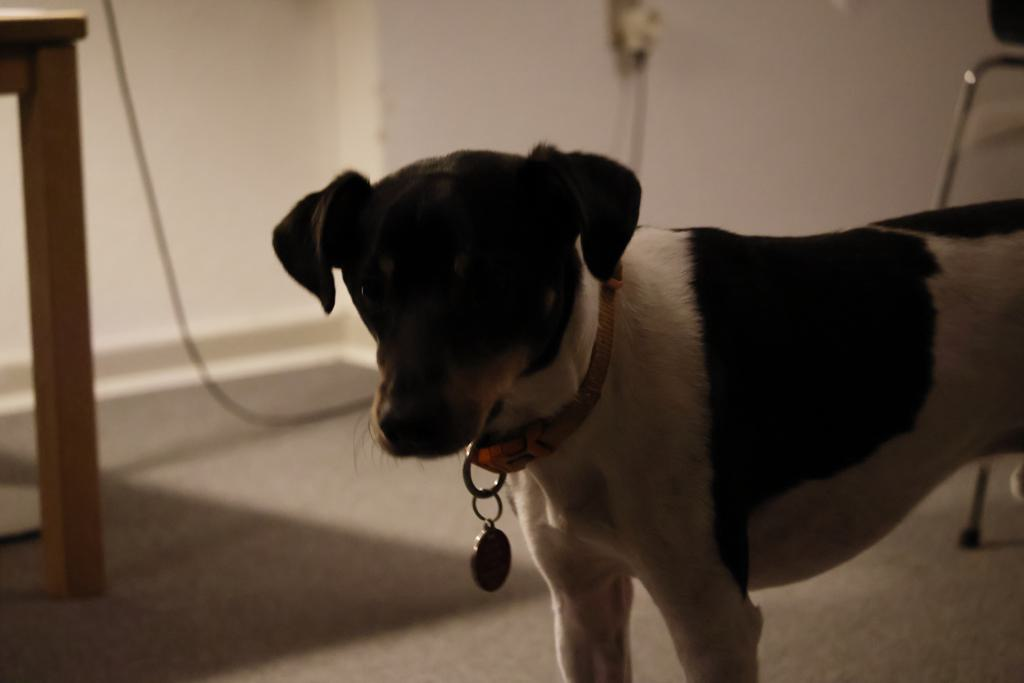Dog: (259, 132, 1024, 683)
